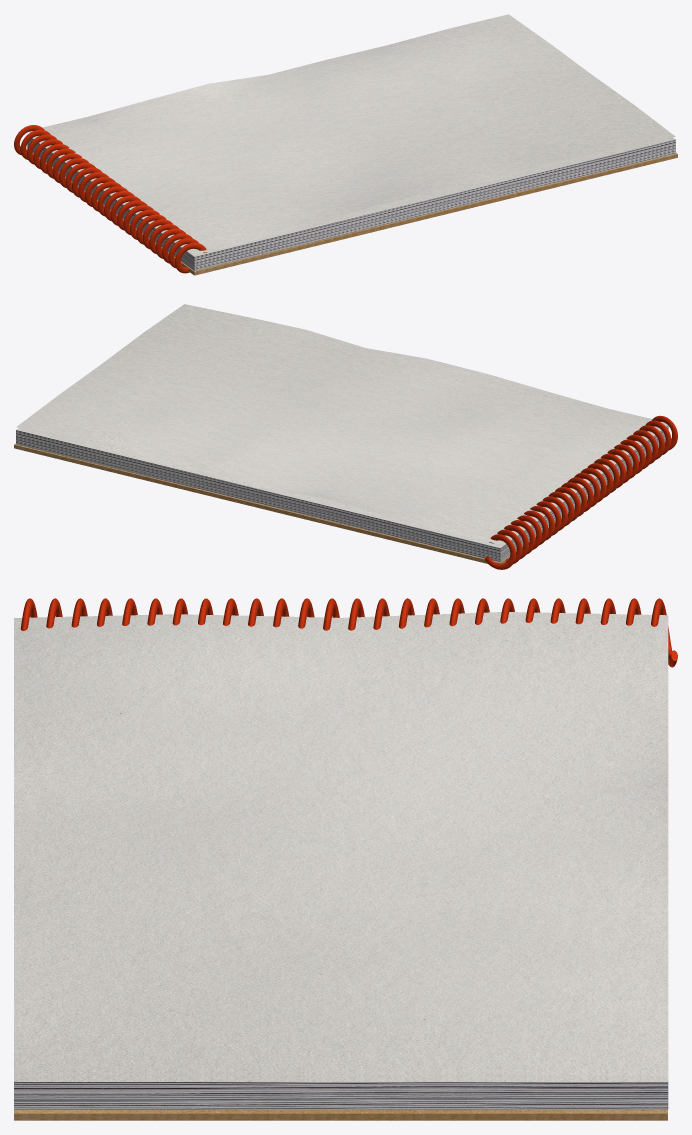
Rendered from BlockHigh.fbx.
3 renders of one model, top to bottom at view 1: azimuth 30°, elevation 25°; view 2: azimuth 150°, elevation 25°; view 3: azimuth 270°, elevation 25°, orthographic. The views are drawn at different scales.
Parts seen in each view (by area): view 1: Block, Box002, Helix001, Box001; view 2: Block, Box002, Helix001, Box001; view 3: Block, Box002, Box001, Helix001.
Part boxes in pixels (left/top/right/bottom): Block: left=29, top=14, right=675, bottom=254; Box002: left=27, top=134, right=675, bottom=270; Helix001: left=14, top=125, right=206, bottom=273; Box001: left=32, top=153, right=677, bottom=275; Block: left=16, top=304, right=666, bottom=544; Box002: left=16, top=424, right=668, bottom=562; Helix001: left=484, top=415, right=677, bottom=569; Box001: left=14, top=442, right=665, bottom=563; Block: left=14, top=612, right=668, bottom=1076; Box002: left=14, top=1073, right=668, bottom=1109; Box001: left=14, top=1109, right=667, bottom=1120; Helix001: left=20, top=598, right=677, bottom=667.
Bounding box in the file's own units: 198 × 117 × 12.14.
5 materials, 3 textured.
